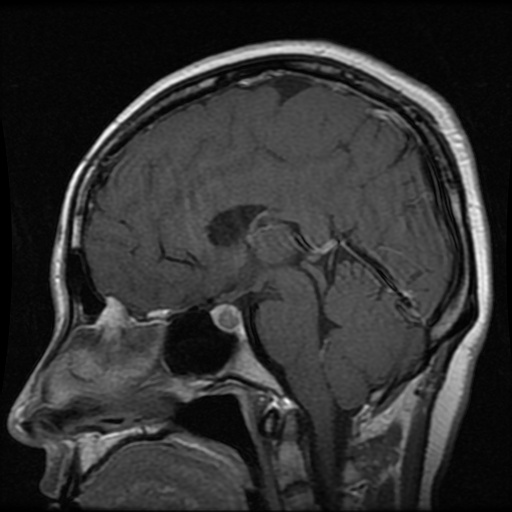pituitary: (211, 306, 244, 335)
